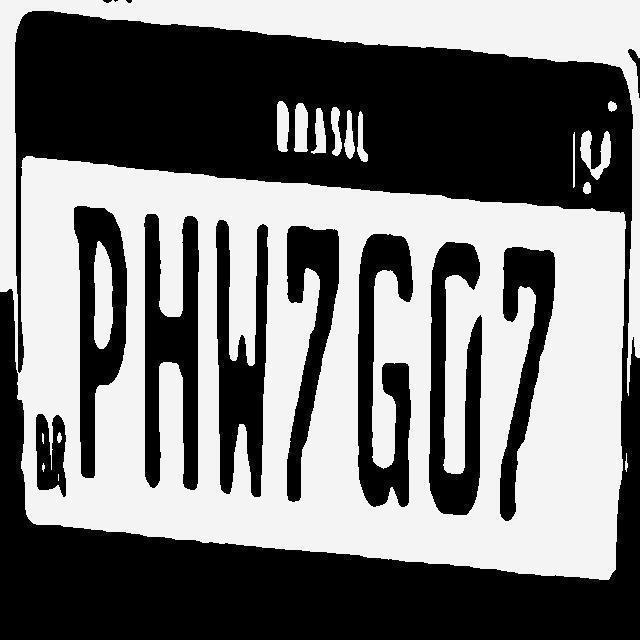0: (420, 239, 488, 517)
7: (486, 244, 562, 528), (270, 226, 344, 510)
g: (351, 226, 420, 511)
h: (136, 207, 206, 492)
p: (65, 199, 132, 482)
w: (210, 222, 276, 500)
